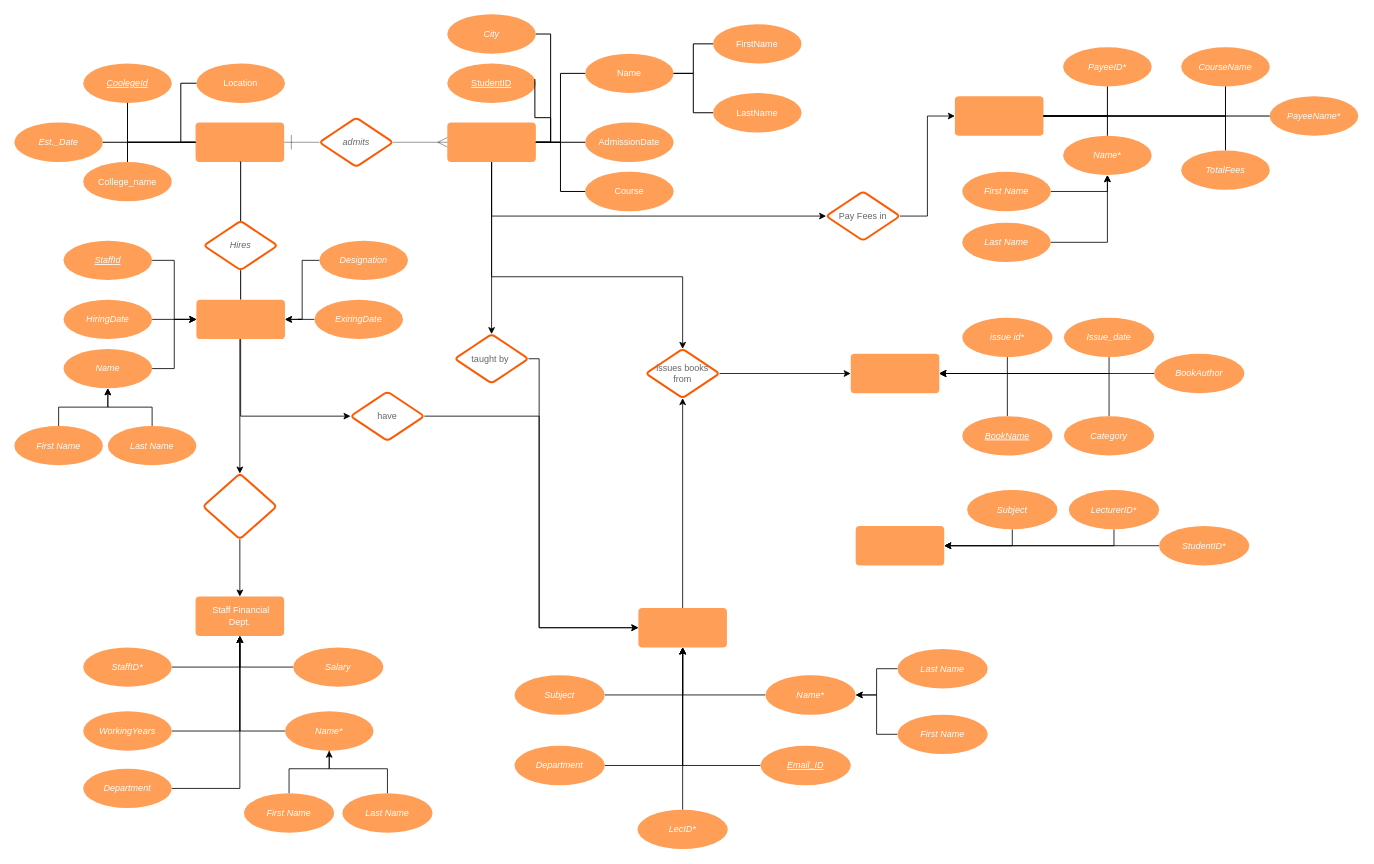
Some shapes in this 1374 by 864 pixel diagram are drawn without their labels. The centre of each missing label's shape, as x and y in pixels:
"College" belongs at (239,142).
"Gets Paid via" belongs at (239,506).
"Lecture" belongs at (899,545).
"Lecturer" belongs at (682,627).
"Library" belongs at (894,373).
"Staff" belongs at (240,319).
"Student Financial Dept." belongs at (999,115).
"Sudent" belongs at (491,142).
